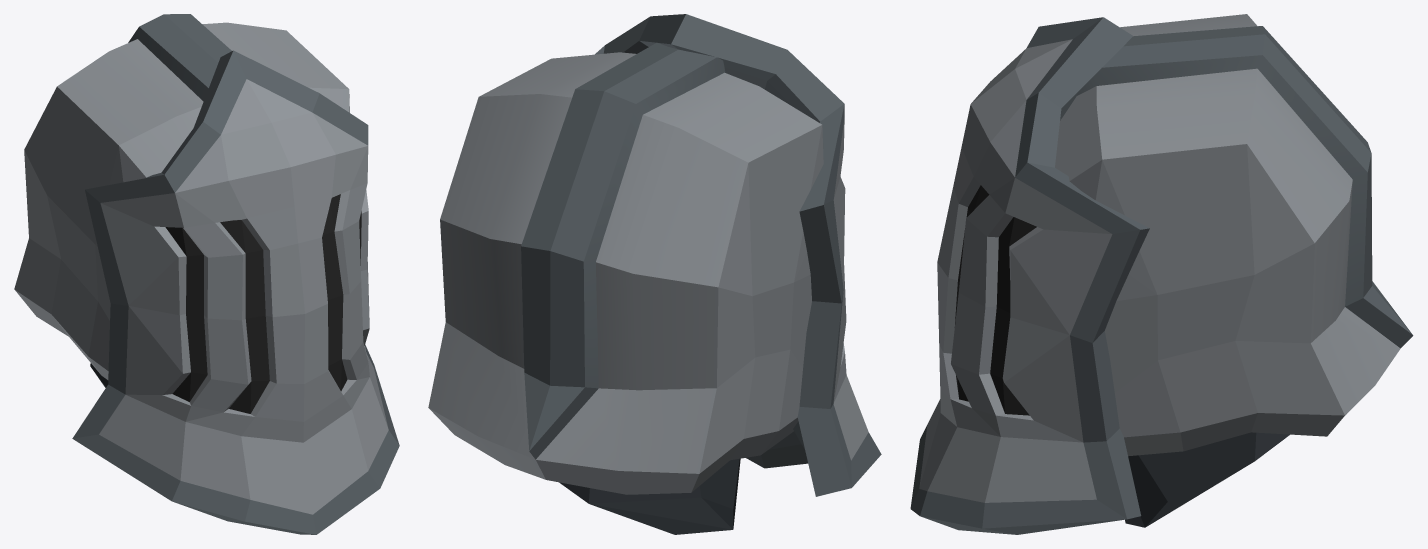
The model's file is Chr_Head_No_Elements_Female_08_Static.fbx.
3 renders of one model, left to right at view 1: azimuth 30°, elevation 25°; view 2: azimuth 150°, elevation 25°; view 3: azimuth 270°, elevation 25°, orthographic. The views are drawn at different scales.
Visible parts, largest first — view 1: Chr_Head_No_Elements_Female_08_Static; view 2: Chr_Head_No_Elements_Female_08_Static; view 3: Chr_Head_No_Elements_Female_08_Static.
Part boxes in pixels (box(x1,y1,x2,y2)): Chr_Head_No_Elements_Female_08_Static: box(14, 14, 399, 534); Chr_Head_No_Elements_Female_08_Static: box(428, 14, 881, 534); Chr_Head_No_Elements_Female_08_Static: box(910, 14, 1413, 534).
Size of the model in its own units: 0.2843 by 0.3921 by 0.3531.
